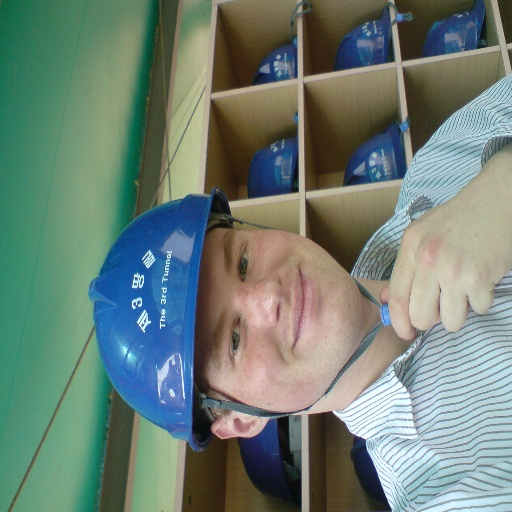hand: (391, 171, 499, 354)
